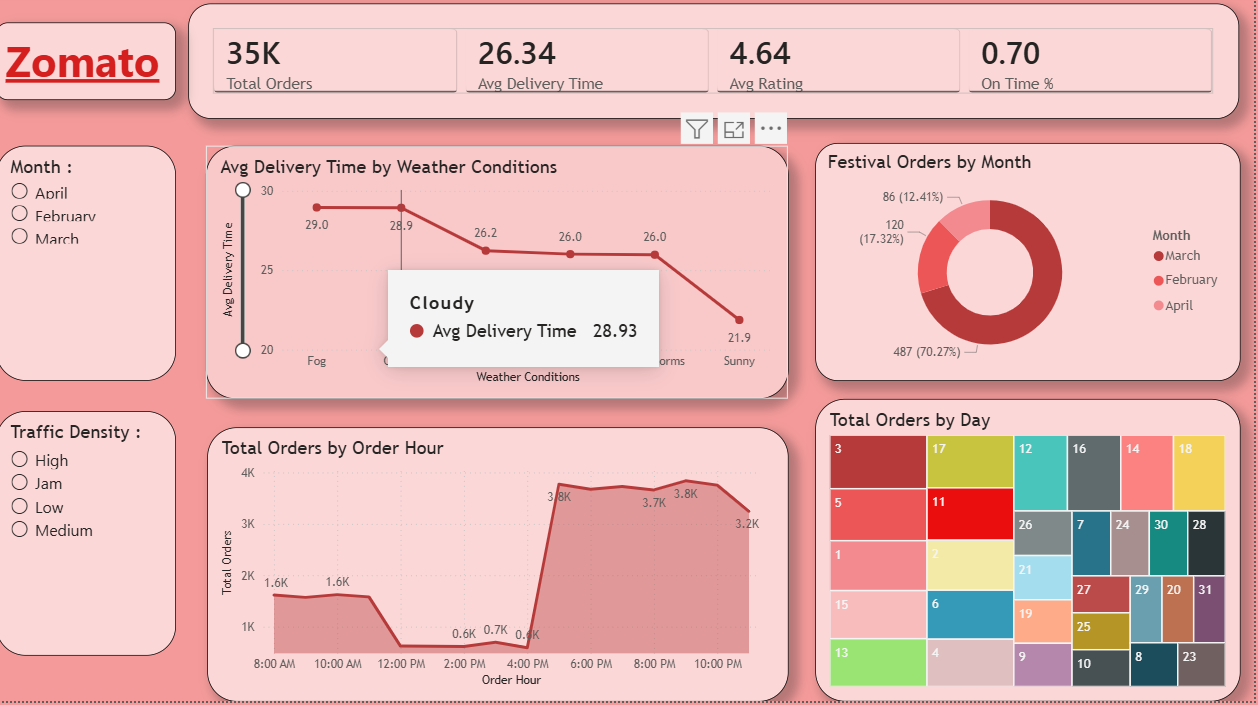

This screenshot's page, from the dashboard's own definition file:
{"tool":"powerbi","page":{"name":"Page 1","canvas":[1280,720],"ordinal":0},"visuals":[{"type":"cardVisual","fields":{"Data":["Zomato Dataset.Total Orders","Zomato Dataset.Avg Delivery Time","Zomato Dataset.Avg Rating","Zomato Dataset.On Time %"]},"box":[196.2,10,1069.6,117.4],"z":0},{"type":"donutChart","fields":{"Category":["Zomato Dataset.Month Name"],"Y":["Zomato Dataset.Festival Orders"]},"box":[833.4,151.8,432.4,242],"z":1000},{"type":"areaChart","fields":{"Category":["Zomato Dataset.Order Hour"],"Y":["Zomato Dataset.Total Orders"]},"box":[214.8,441,591.4,279.2],"z":2000},{"type":"lineChart","fields":{"Y":["Zomato Dataset.Avg Delivery Time"],"Category":["Zomato Dataset.Weather_conditions"]},"box":[213.4,154.6,592.8,257.7],"z":3000},{"type":"treemap","fields":{"Group":["Zomato Dataset.Order_Date.Variation.Date Hierarchy.Day"],"Values":["Zomato Dataset.Total Orders"]},"box":[833.4,412.4,432.4,307.9],"z":4000},{"type":"listSlicer","fields":{"Values":["Zomato Dataset.Month Name"]},"box":[0,154.6,183.3,239.1],"z":5000},{"type":"listSlicer","fields":{"Values":["Zomato Dataset.Road_traffic_density"]},"box":[0,423.8,183.3,249.2],"z":6000},{"type":"textbox","box":[0,28.6,183.3,78.8],"z":7000}]}

Visuals, with their boxes in screenshot pixels (x1, y1, x2, y2), scaled from the page's 1280x720 canvas onto the 1258x705 screenshot:
cardVisual - Zomato Dataset.Total Orders x Zomato Dataset.Avg Delivery Time: <bbox>193, 10, 1244, 125</bbox>
donutChart - Zomato Dataset.Month Name x Zomato Dataset.Festival Orders: <bbox>819, 149, 1244, 386</bbox>
areaChart - Zomato Dataset.Order Hour x Zomato Dataset.Total Orders: <bbox>211, 432, 792, 704</bbox>
lineChart - Zomato Dataset.Avg Delivery Time x Zomato Dataset.Weather_conditions: <bbox>210, 151, 792, 404</bbox>
treemap - Zomato Dataset.Order_Date.Variation.Date Hierarchy.Day x Zomato Dataset.Total Orders: <bbox>819, 404, 1244, 704</bbox>
listSlicer - Zomato Dataset.Month Name: <bbox>0, 151, 180, 385</bbox>
listSlicer - Zomato Dataset.Road_traffic_density: <bbox>0, 415, 180, 659</bbox>
textbox: <bbox>0, 28, 180, 105</bbox>
